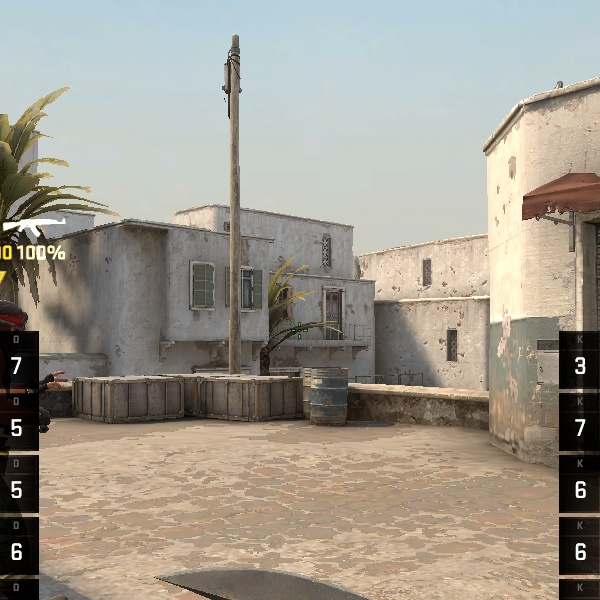t_body: (2, 275, 115, 600)
t_head: (0, 293, 38, 343)
